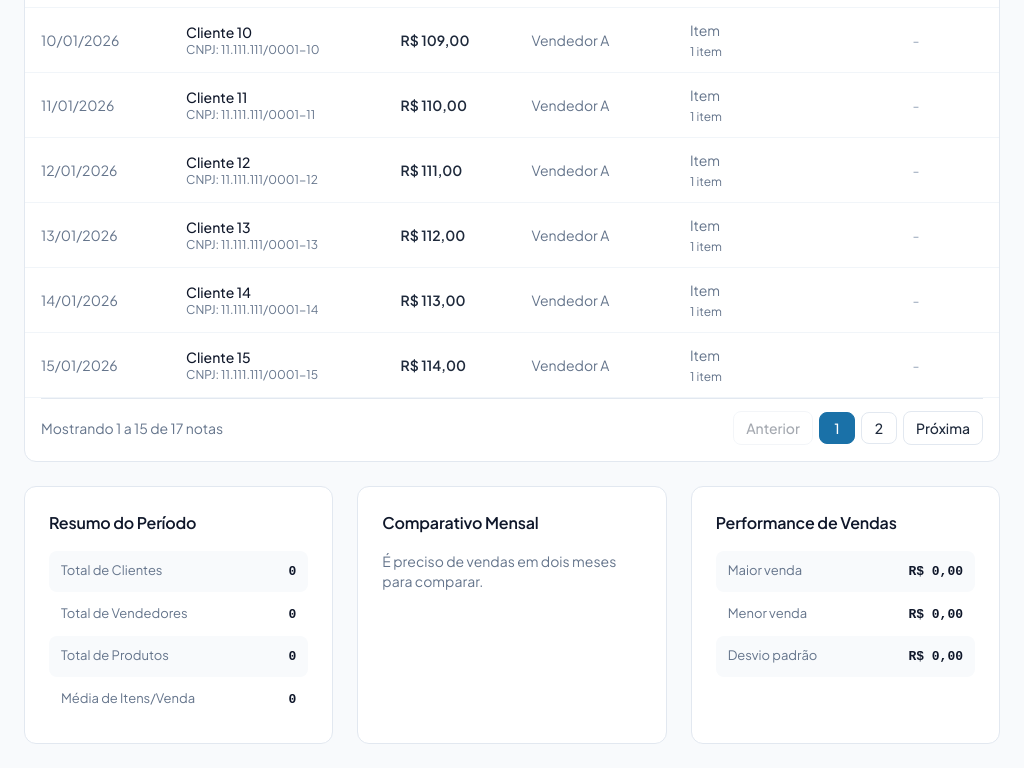
paginacao em Vendas › Anterior volta para a primeira
(page scrolled)
Click the button "Próxima" at (943, 428), box [903, 411, 983, 445]
(page scrolled)
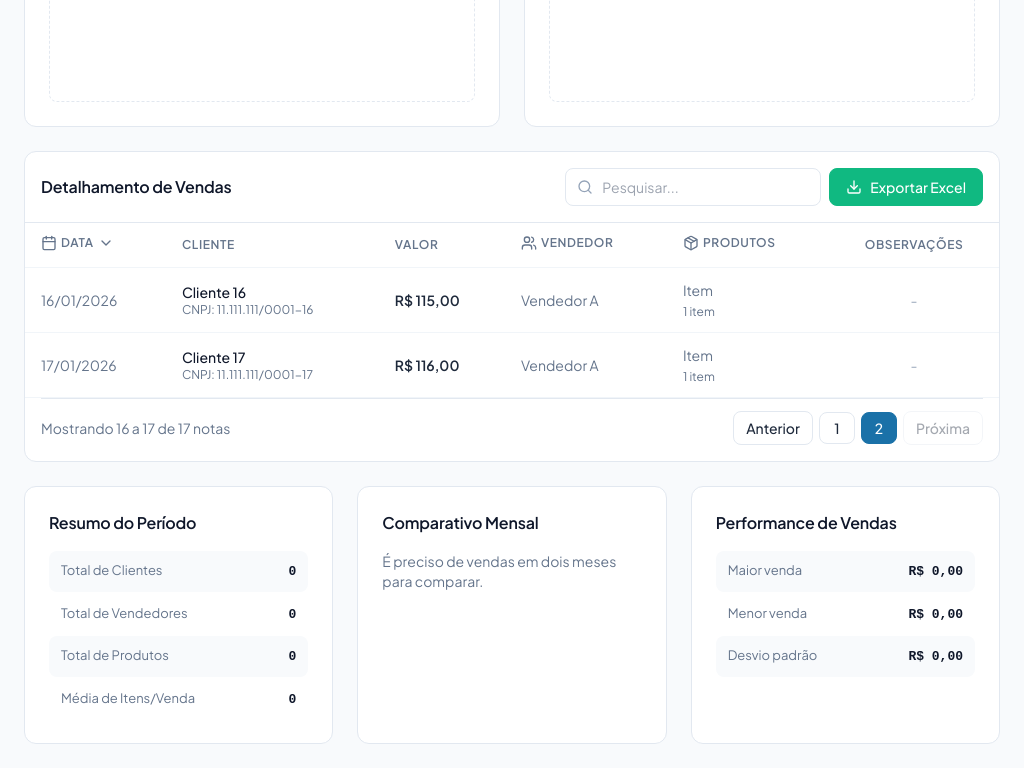
Click the button "Anterior" at (773, 428), box [733, 411, 813, 445]
(page scrolled)
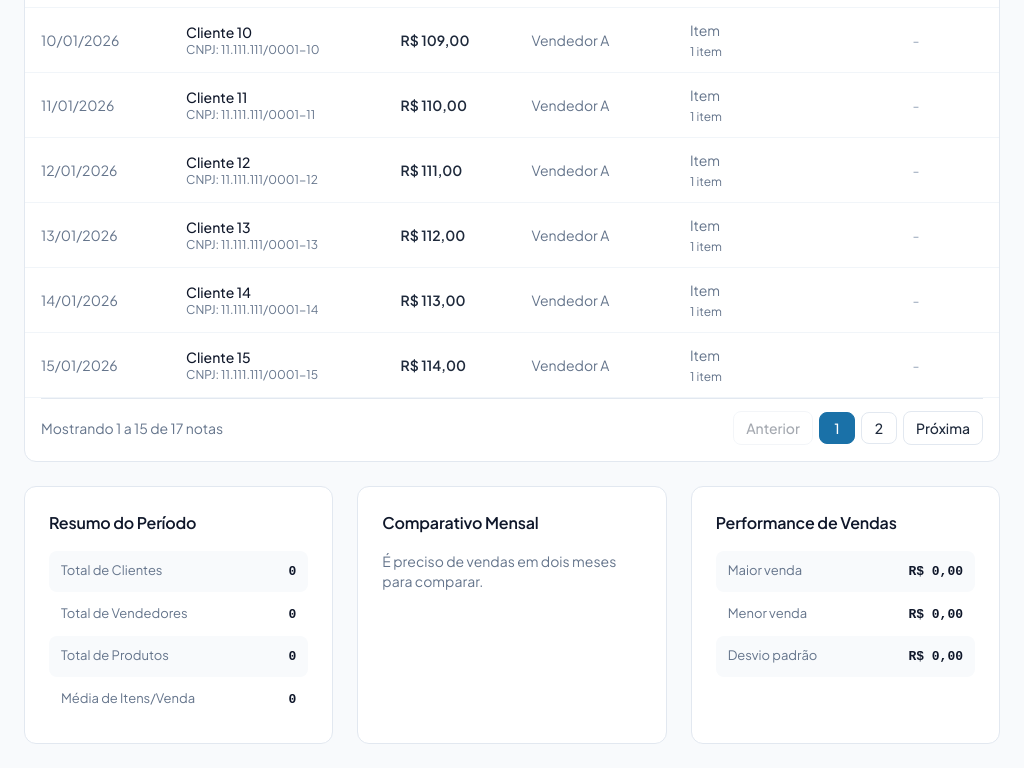
Check: the text "Mostrando 1 a 15 de 17 notas" is shown, box [41, 418, 223, 438]
